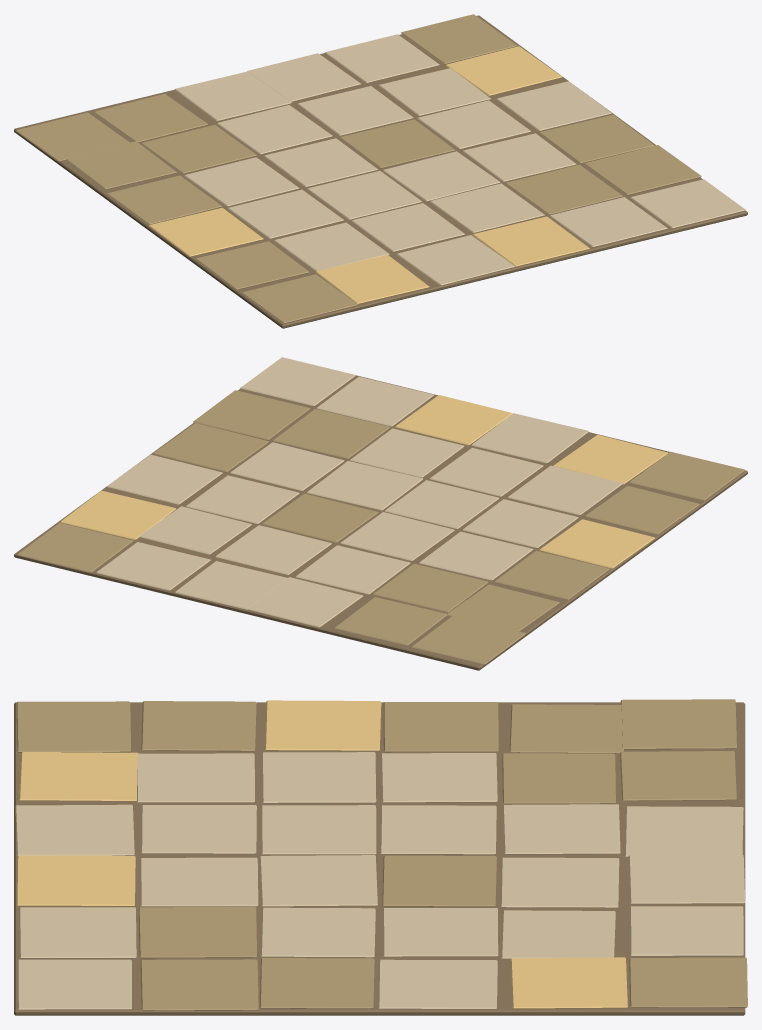
The model's file is hd_rd_plaza.gltf.
3 views of the same model, one above another, from view 1: azimuth 30°, elevation 25°; view 2: azimuth 150°, elevation 25°; view 3: azimuth 270°, elevation 25° (orthographic). The views are drawn at different scales.
Visible parts, largest first — view 1: pbed, pf02, pf14, pf03, pf15, pf04, pf23, pf52, pf55, pf43, pf35, pf45 (+25 smaller); view 2: pbed, pf02, pf14, pf03, pf04, pf15, pf23, pf52, pf55, pf43, pf35, pf45 (+25 smaller); view 3: pbed, pf03, pf04, pf15, pf02, pf14, pf23, pf55, pf43, pf45, pf35, pf42 (+25 smaller).
Part boxes in pixels (x1,y1,x2,y2): pbed: [14, 15, 747, 328]; pf02: [396, 235, 514, 285]; pf14: [505, 164, 622, 214]; pf03: [473, 216, 589, 266]; pf15: [584, 145, 701, 195]; pf04: [550, 197, 667, 247]; pf23: [383, 151, 500, 201]; pf52: [175, 71, 291, 121]; pf55: [401, 14, 517, 64]; pf43: [298, 86, 413, 135]; pf35: [496, 81, 611, 131]; pf45: [445, 46, 562, 95]; pbed: [14, 375, 747, 670]; pf02: [471, 413, 588, 463]; pf14: [273, 409, 389, 459]; pf03: [395, 395, 512, 445]; pf04: [316, 376, 433, 426]; pf15: [193, 390, 309, 440]; pf23: [307, 461, 422, 510]; pf52: [248, 577, 362, 627]; pf55: [17, 523, 132, 572]; pf43: [215, 525, 331, 574]; pf35: [107, 454, 222, 504]; pf45: [60, 490, 175, 539]; pbed: [14, 702, 745, 1015]; pf03: [16, 855, 135, 906]; pf04: [19, 907, 136, 958]; pf15: [140, 959, 258, 1010]; pf02: [15, 804, 134, 855]; pf14: [138, 907, 256, 958]; pf23: [259, 855, 377, 906]; pf55: [629, 957, 747, 1007]; pf43: [500, 857, 619, 907]; pf45: [510, 957, 627, 1008]; pf35: [378, 959, 497, 1009]; pf42: [502, 804, 620, 854].
Bounding box in the file's own units: 24.13 × 0.271 × 24.09.
